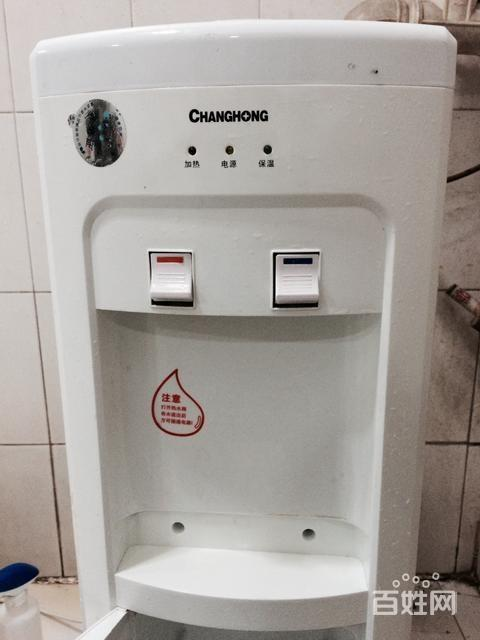Dispenser: (29, 17, 457, 639)
